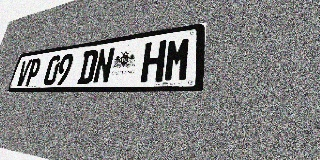0: (42, 55, 62, 86)
9: (54, 53, 75, 85)
D: (77, 49, 99, 85)
H: (140, 40, 167, 83)
M: (163, 36, 192, 82)
N: (92, 47, 115, 84)
P: (24, 57, 42, 86)
V: (15, 59, 32, 87)
